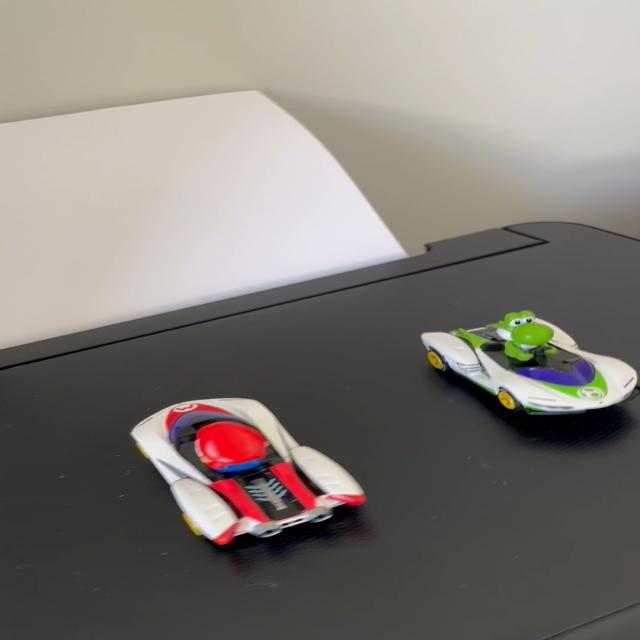mario: (121, 390, 382, 556)
yoshi: (410, 300, 640, 427)
